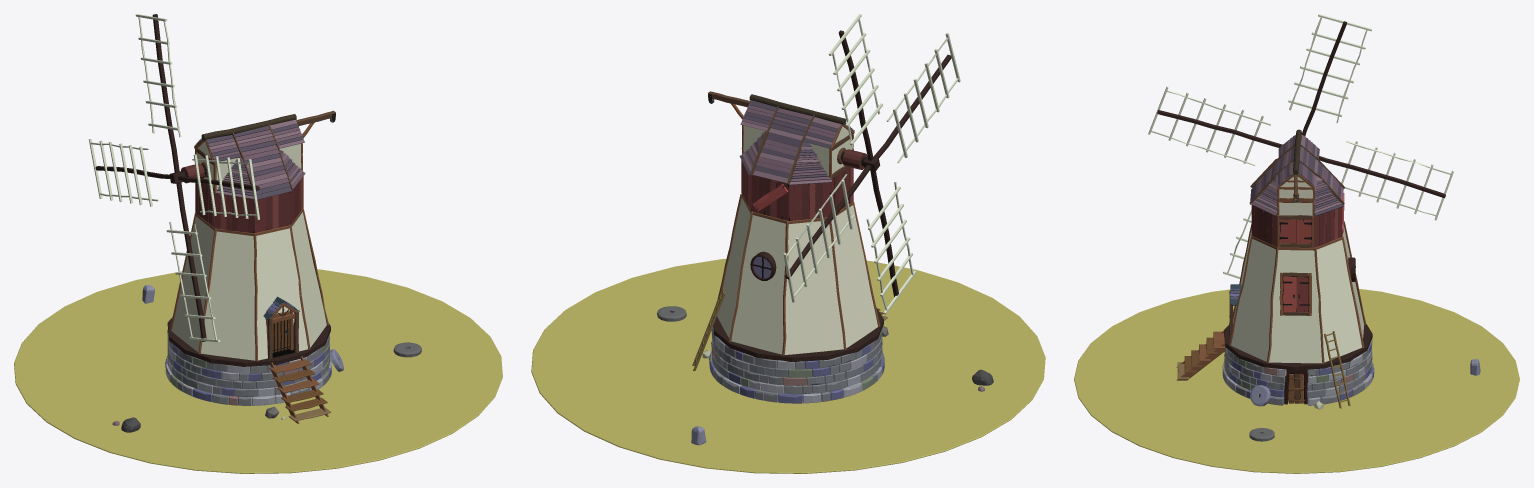
Rendered from windmill_b4f65f62.glb.
3 views of the same model, side by side, from view 1: azimuth 30°, elevation 25°; view 2: azimuth 150°, elevation 25°; view 3: azimuth 270°, elevation 25° (orthographic). The views are drawn at different scales.
Visible parts, largest first — view 1: Cylinder, middle.001, top, Cube.133, poles, Cube.134, Cube.135, Cylinder.001, Cube, Cube.003, Cube.001, Cube.139 (+8 smaller); view 2: Cylinder, middle.001, top, Cube.133, Cube, poles, Cylinder.001, Cube.134, Cube.136, Cube.139, Cube.135, Cube.001 (+7 smaller); view 3: Cylinder, middle.001, top, Cube.133, poles, Cube.139, Cylinder.001, Cube.134, Cube.135, Cube, Cube.002, Cube.003 (+6 smaller).
Boxes of the visible parts, <box> form: Cylinder: <box>14,269,502,473</box>; middle.001: <box>171,212,326,360</box>; top: <box>181,142,303,233</box>; Cube.133: <box>95,14,259,341</box>; poles: <box>169,208,328,361</box>; Cube.134: <box>192,154,259,219</box>; Cube.135: <box>88,139,158,206</box>; Cylinder.001: <box>167,317,330,366</box>; Cube: <box>165,356,331,405</box>; Cube.003: <box>167,340,329,381</box>; Cube.001: <box>167,356,329,396</box>; Cube.139: <box>135,14,181,137</box>; Cylinder: <box>531,258,1045,473</box>; middle.001: <box>717,197,877,354</box>; top: <box>741,125,867,220</box>; Cube.133: <box>785,30,951,296</box>; Cube: <box>709,352,884,403</box>; poles: <box>717,194,880,355</box>; Cylinder.001: <box>713,307,883,361</box>; Cube.134: <box>886,32,960,163</box>; Cube.136: <box>866,181,916,314</box>; Cube.139: <box>828,14,883,149</box>; Cube.135: <box>783,174,854,302</box>; Cube.001: <box>711,349,882,394</box>; Cylinder: <box>1074,289,1519,473</box>; middle.001: <box>1231,225,1363,363</box>; top: <box>1251,175,1342,247</box>; Cube.133: <box>1157,21,1445,198</box>; poles: <box>1229,221,1366,363</box>; Cube.139: <box>1288,14,1371,122</box>; Cylinder.001: <box>1224,324,1372,370</box>; Cube.134: <box>1148,86,1270,165</box>; Cube.135: <box>1341,140,1453,220</box>; Cube: <box>1222,362,1374,405</box>; Cube.002: <box>1224,352,1372,390</box>; Cube.003: <box>1224,349,1371,383</box>.
Size of the model in its own units: 11158 by 9248 by 11158.
